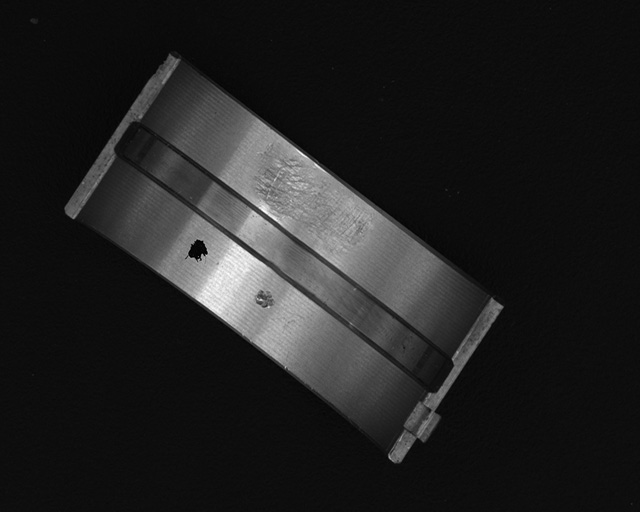blot: (184, 239, 209, 264)
bruise: (253, 289, 275, 311)
gap: (123, 122, 451, 391)
scratch: (255, 159, 367, 256)
